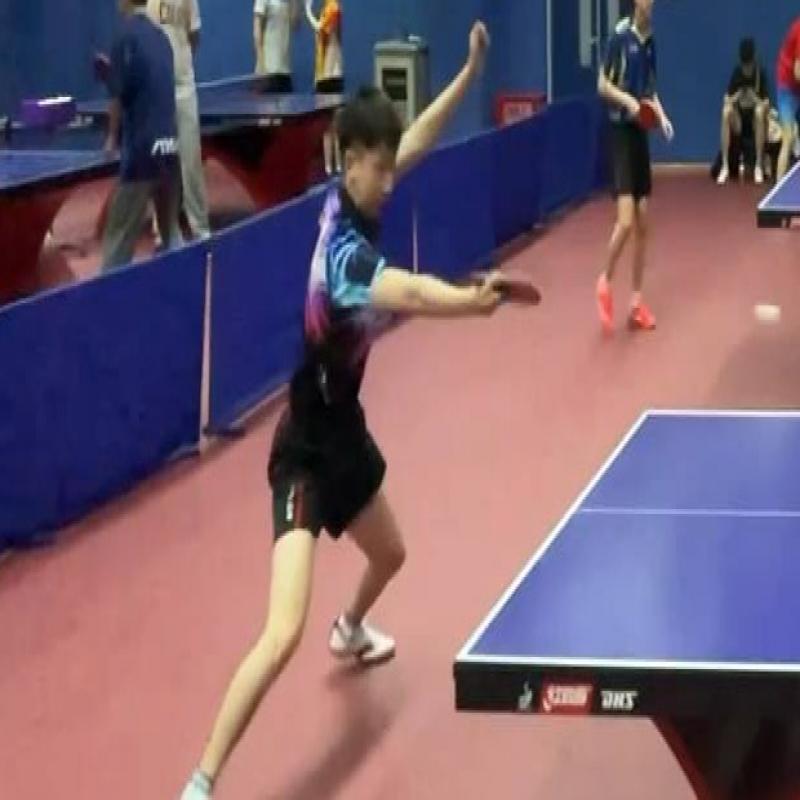bats: (476, 238, 552, 339)
